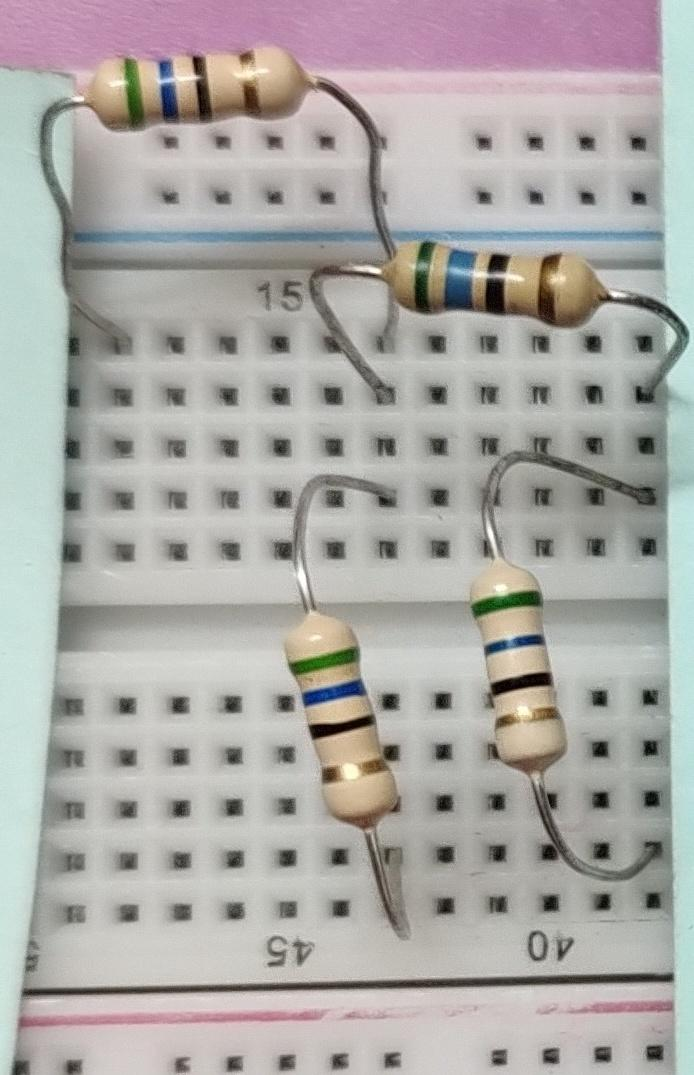resistor: (271, 603, 417, 837), (457, 553, 576, 784), (371, 233, 611, 340), (69, 39, 316, 137)
